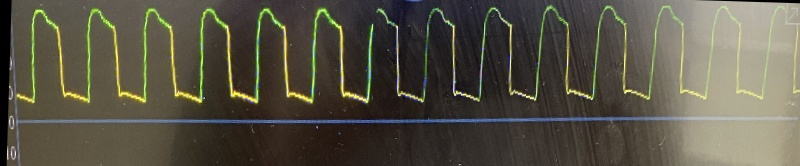normal_pressure: (13, 0, 779, 113)
